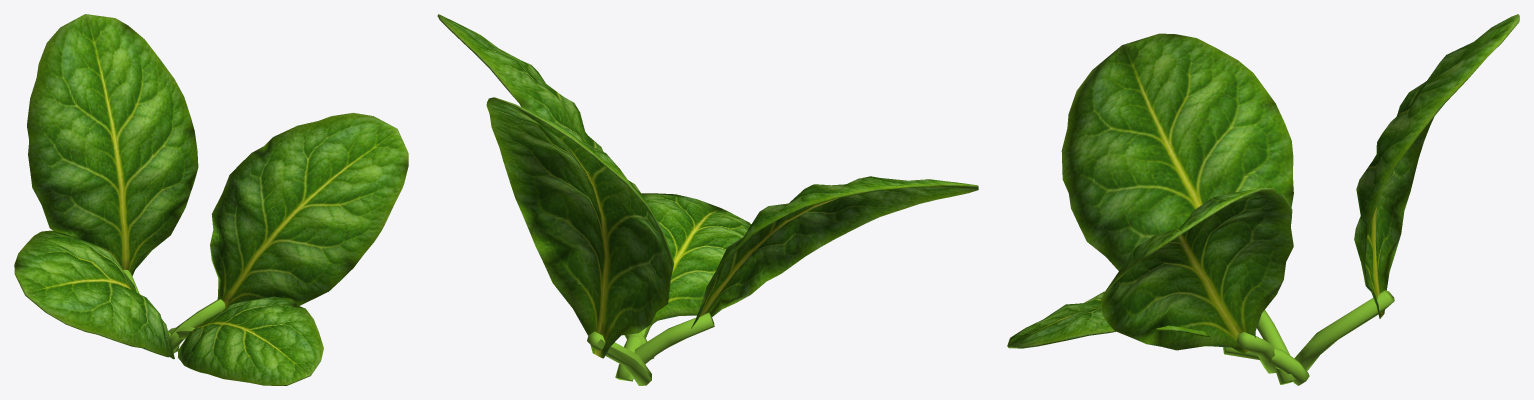
File: NP_Spinach_Young_LOD1.fbx
The picture shows the model from 3 angles, left to right: view 1: azimuth 30°, elevation 25°; view 2: azimuth 150°, elevation 25°; view 3: azimuth 270°, elevation 25°; orthographic projection. The views are drawn at different scales.
Parts seen in each view (by area): view 1: NP_Spinach_Young; view 2: NP_Spinach_Young; view 3: NP_Spinach_Young.
Boxes of the visible parts, x1,y1,x2,y2 form: NP_Spinach_Young: [14, 14, 408, 385]; NP_Spinach_Young: [437, 14, 978, 385]; NP_Spinach_Young: [1007, 14, 1519, 385].
Size of the model in its own units: 44.53 by 29.6 by 37.6.
